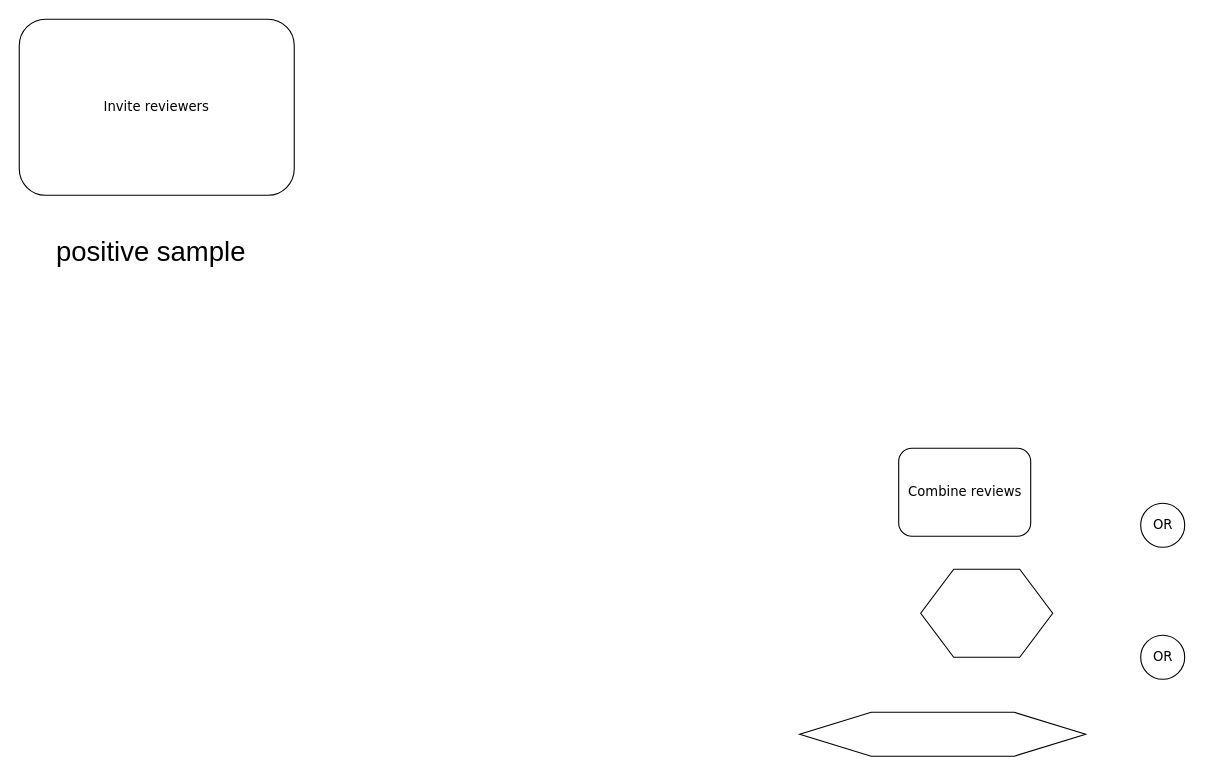
Some shapes in this 1205 by 776 pixel diagram are drawn without their labels. The box of each missing label's shape, as (x1, y1, x2, y2) in pixels:
Reviewers are to be invited: (799, 711, 1086, 756)
Reviews are to be combined: (920, 568, 1053, 657)
